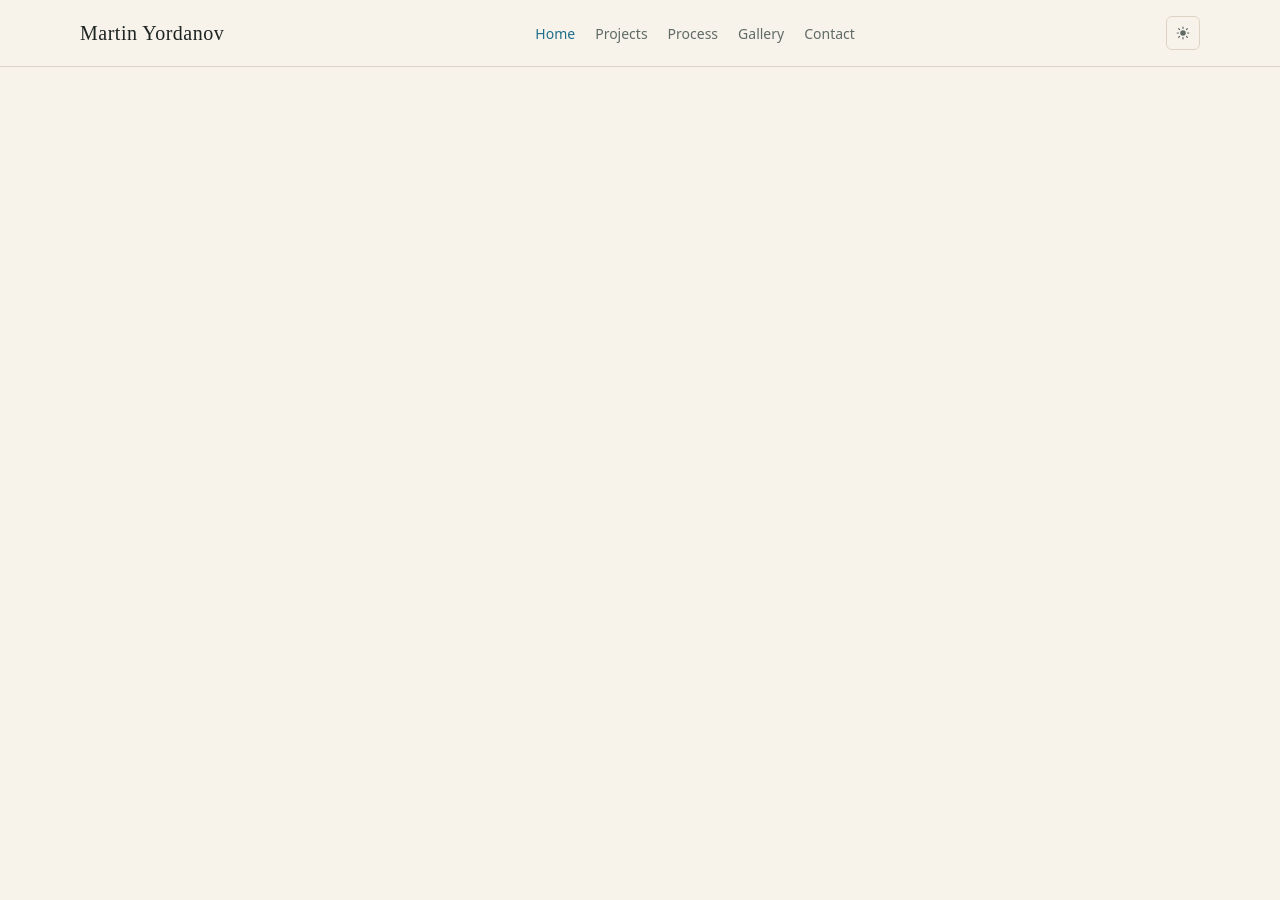
Header › cycles the theme choice Light → Dark → System → Light
Step 1. Click the button named "switch to dark mode" → (1183, 33), box [1166,16,1200,50]
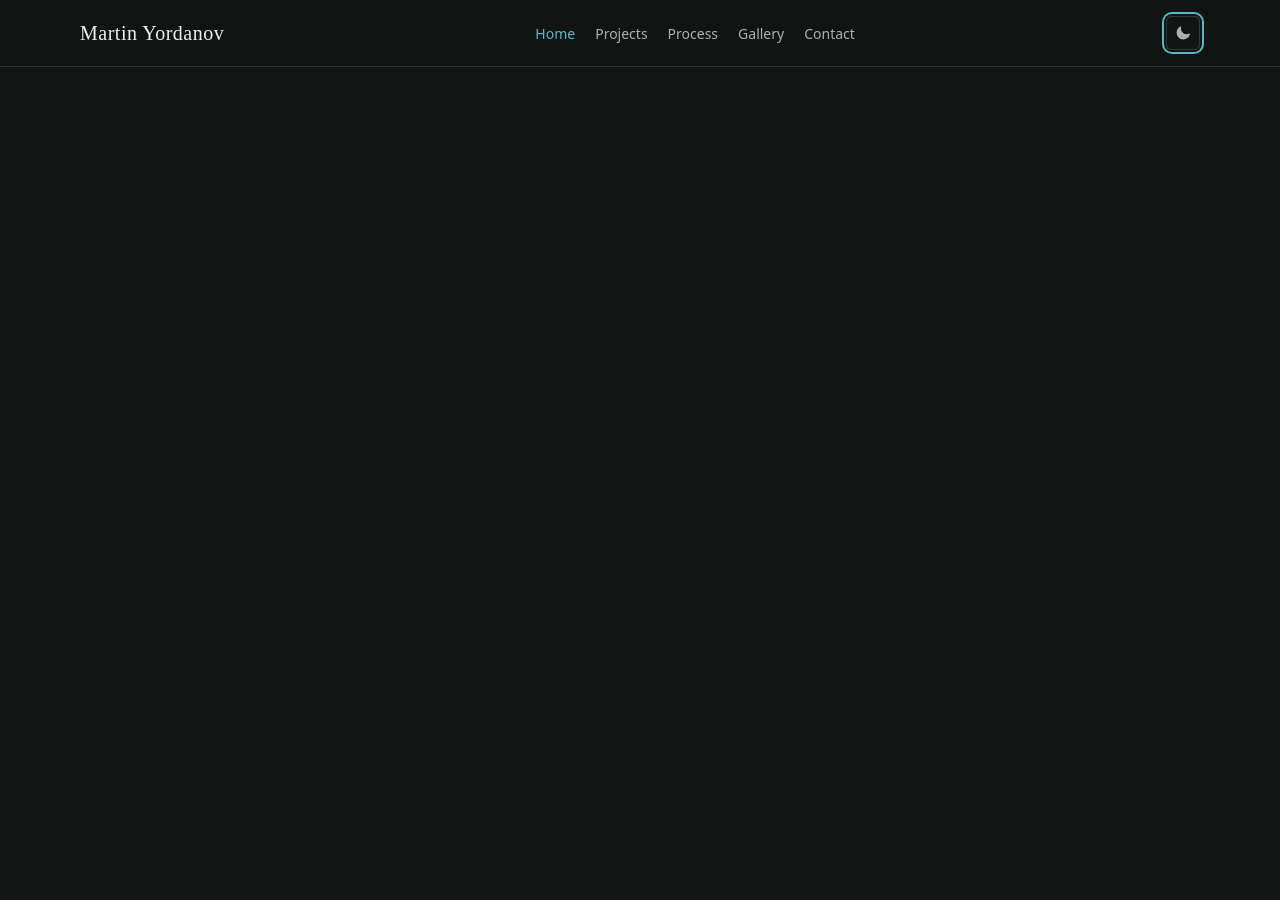
Check: the button named "switch to system theme" is shown
Step 2. Click the button named "switch to system theme" → (1183, 33), box [1166,16,1200,50]
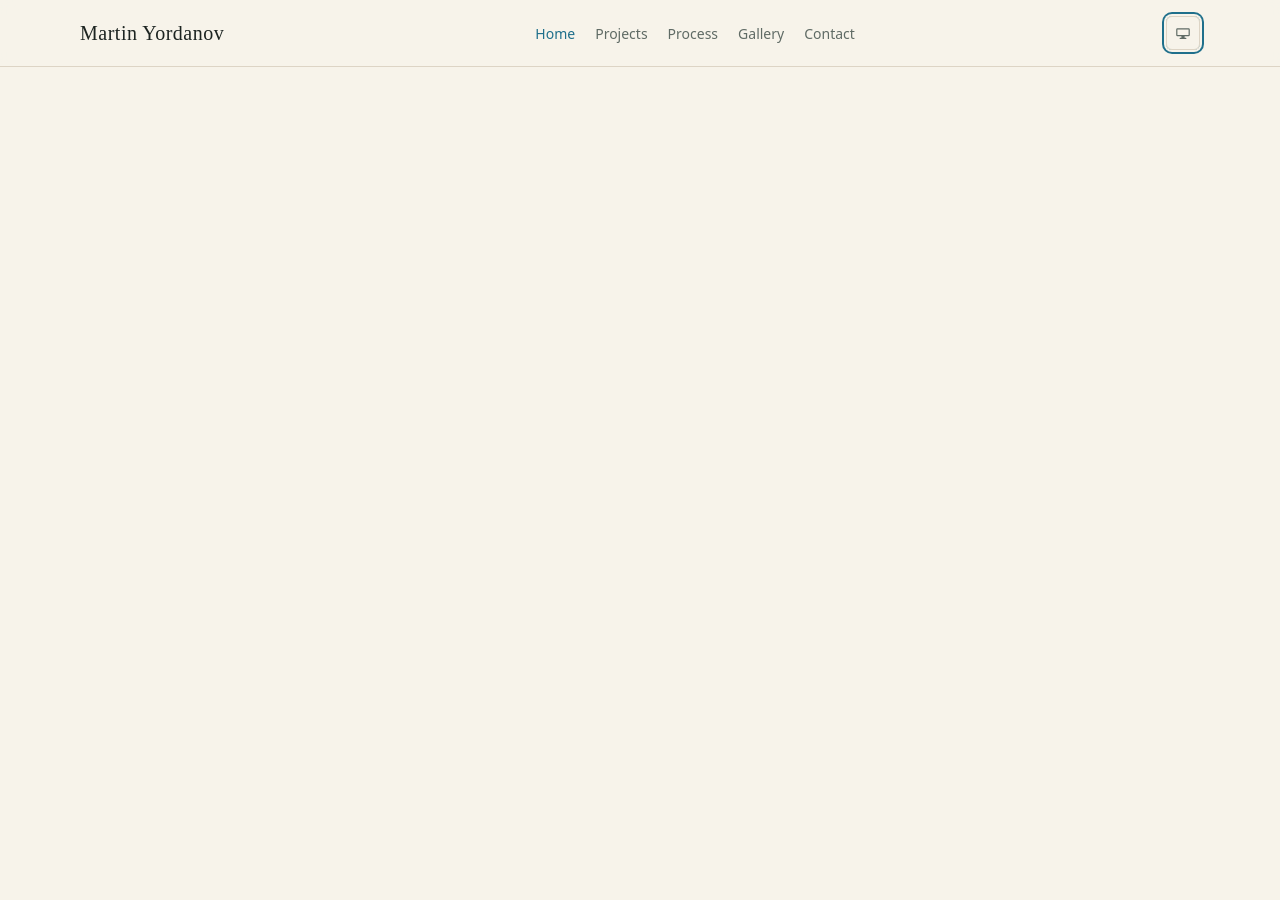
Check: the button named "switch to light mode" is shown
Step 3. Click the button named "switch to light mode" → (1183, 33), box [1166,16,1200,50]
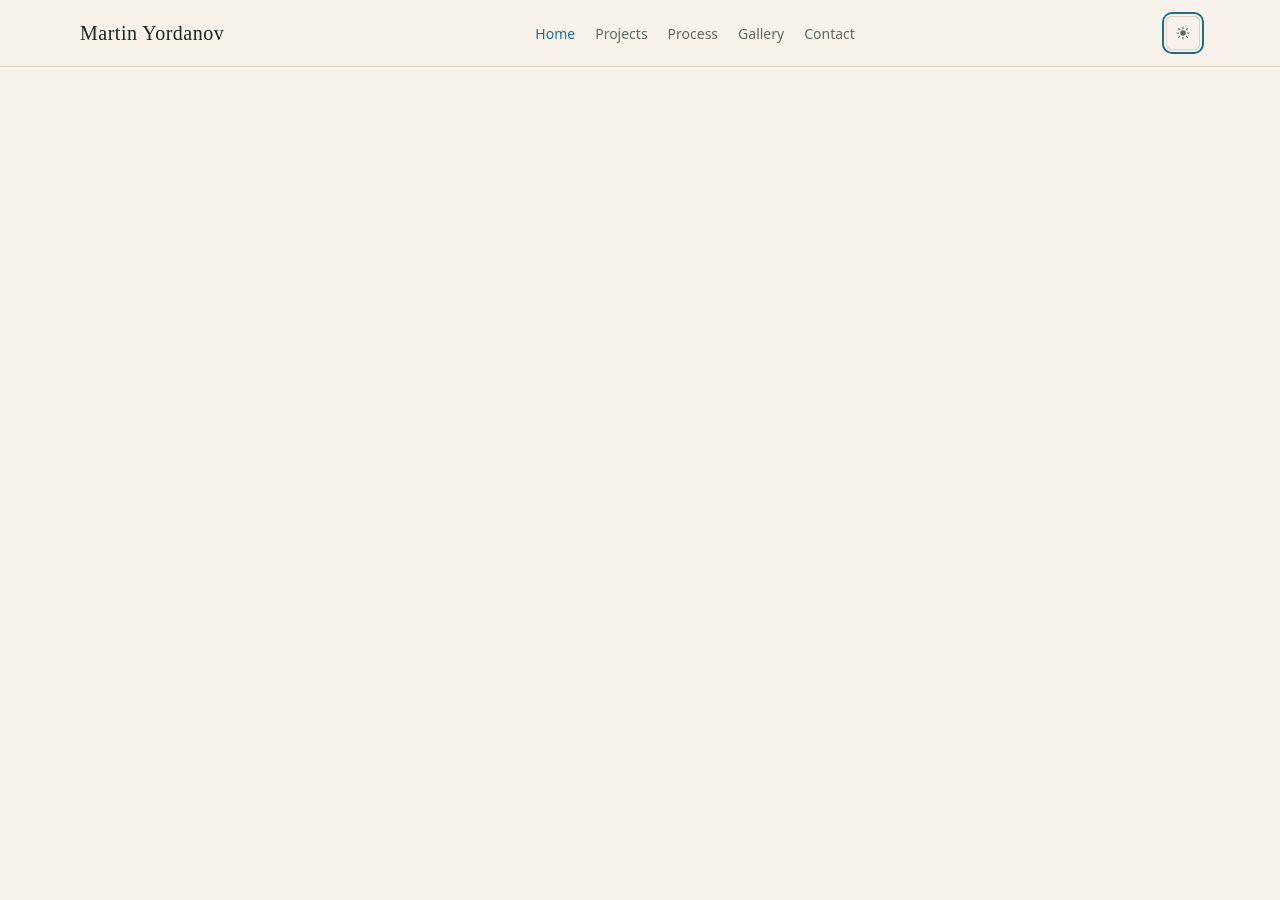
Check: the button named "switch to dark mode" is shown, box [1166,16,1200,50]
